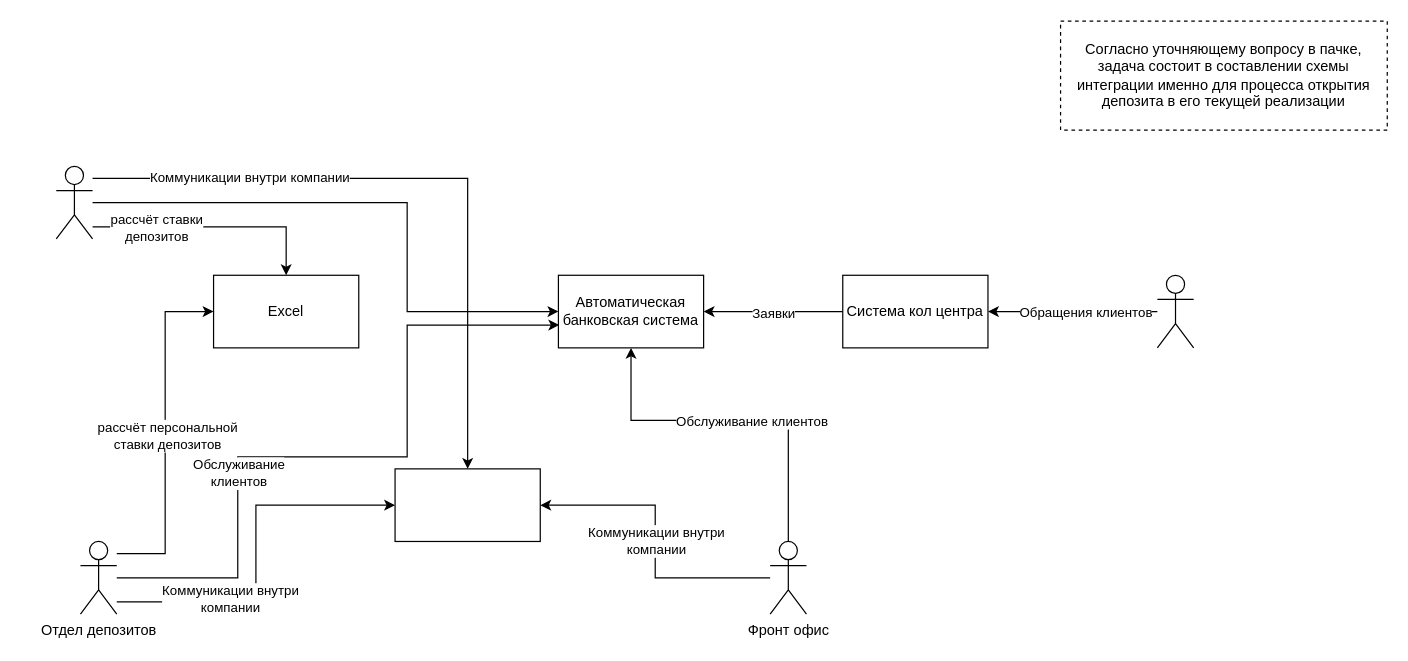
The diagram is 1408 pixels wide and 661 high, and some of its shapes have lost their labels. The shapes that lost their labels are listed below. From the top down, each one's box as (x1, y1, x2, y2) in pixels, then its label:
(55, 165, 93, 239): Отдел кредитов
(1156, 274, 1194, 348): Кол центр
(394, 468, 540, 541): E-mail система
